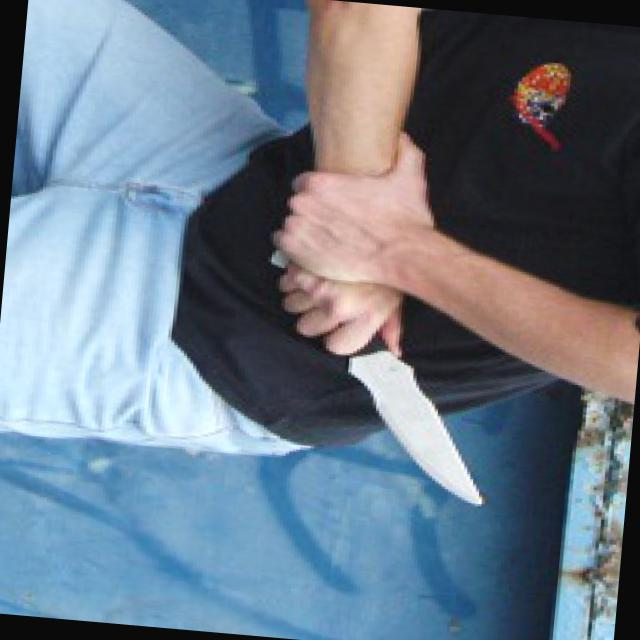knife: (258, 276, 516, 508)
